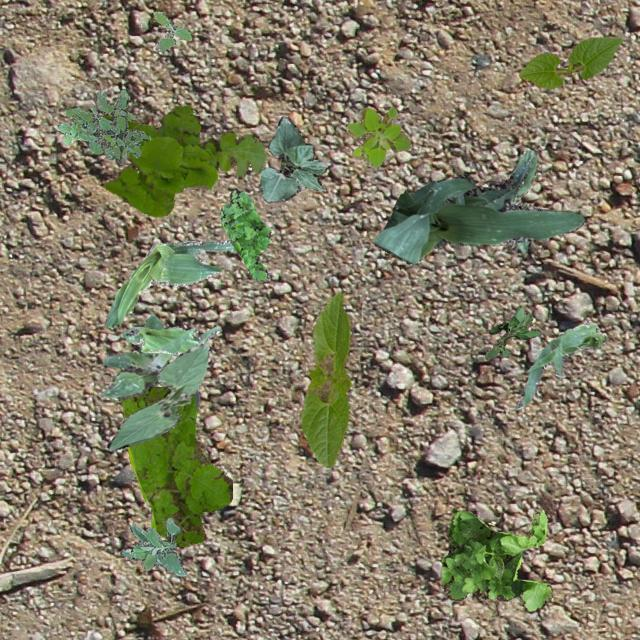crop: (372, 162, 584, 264), (103, 240, 235, 328), (106, 342, 208, 450), (298, 290, 350, 467), (514, 320, 606, 408), (260, 115, 326, 202), (518, 36, 622, 88), (508, 148, 538, 252), (122, 326, 218, 354)
weed: (98, 104, 266, 215), (119, 386, 231, 546), (441, 506, 552, 610), (56, 88, 150, 160), (98, 312, 170, 398), (218, 188, 270, 280), (344, 106, 410, 168), (120, 516, 186, 574), (484, 304, 540, 360), (152, 10, 190, 50)
